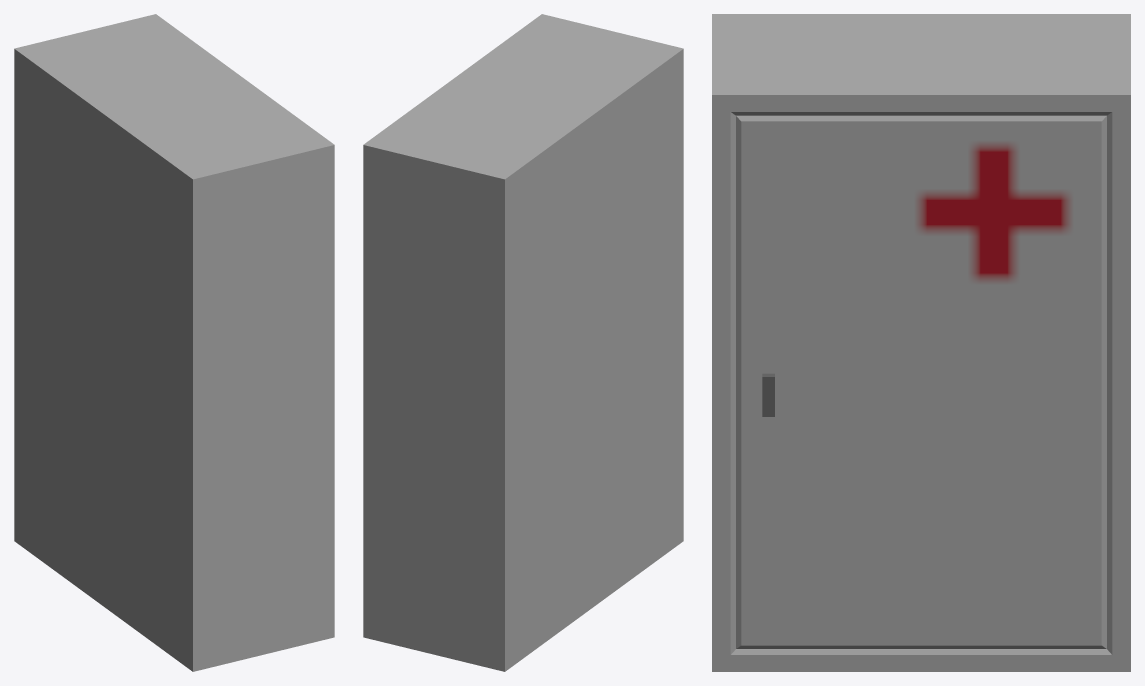
The model's file is medic box.fbx.
3 renders of one model, left to right at view 1: azimuth 30°, elevation 25°; view 2: azimuth 150°, elevation 25°; view 3: azimuth 270°, elevation 25°, orthographic. The views are drawn at different scales.
Parts seen in each view (by area): view 1: Medic box; view 2: Medic box; view 3: Door, Medic box.
Boxes of the visible parts, x1,y1,x2,y2 form: Medic box: [14, 14, 334, 671]; Medic box: [363, 14, 683, 671]; Door: [736, 115, 1106, 648]; Medic box: [712, 14, 1130, 671].
Size of the model in its own units: 15.24 by 48.62 by 32.
Materials: 1 (1 with a texture image).
